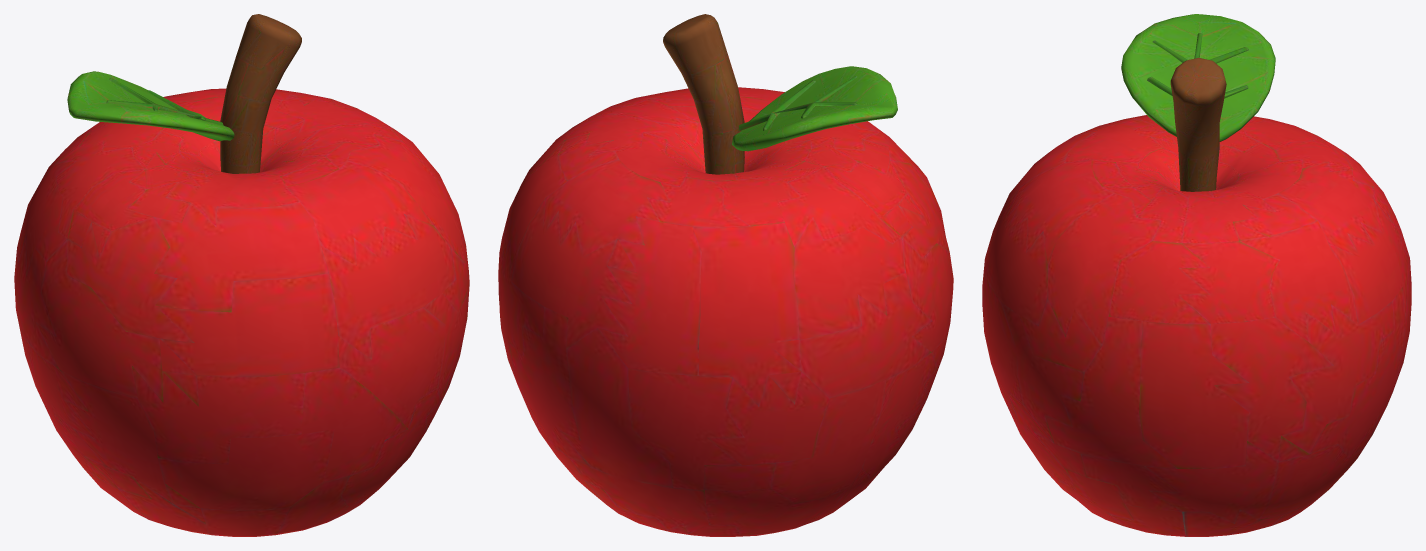
The model's file is f05_apple.glb.
3 views of the same model, side by side, from view 1: azimuth 30°, elevation 25°; view 2: azimuth 150°, elevation 25°; view 3: azimuth 270°, elevation 25° (orthographic). The views are drawn at different scales.
Visible parts, largest first — view 1: geometry_0; view 2: geometry_0; view 3: geometry_0.
Part boxes in pixels (x1=…): geometry_0: x1=14, y1=14, x2=469, y2=536; geometry_0: x1=498, y1=14, x2=953, y2=536; geometry_0: x1=982, y1=14, x2=1411, y2=536.
Size of the model in its own units: 0.8413 by 0.9512 by 0.8408.
1 material, 1 textured.
